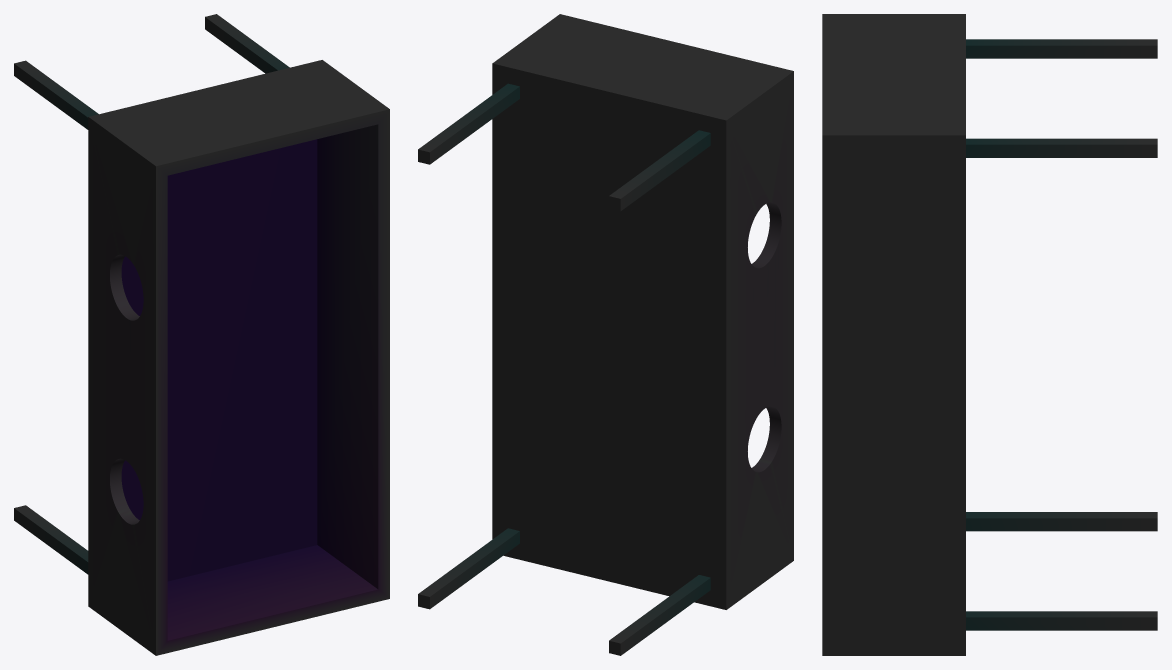
3 views of the same model, side by side, from view 1: azimuth 30°, elevation 25°; view 2: azimuth 150°, elevation 25°; view 3: azimuth 270°, elevation 25° (orthographic). The views are drawn at different scales.
Parts seen in each view (by area): view 1: shell, upper_bar, lower_bar, upper_bar.003; view 2: shell, lower_bar.003, lower_bar, upper_bar, upper_bar.003; view 3: shell, lower_bar, lower_bar.003, upper_bar, upper_bar.003.
Boxes of the visible parts, x1,y1,x2,y2 form: shell: [88, 60, 389, 655]; upper_bar: [14, 60, 98, 129]; lower_bar: [14, 505, 88, 574]; upper_bar.003: [205, 14, 289, 73]; shell: [492, 14, 793, 609]; lower_bar.003: [418, 528, 519, 609]; lower_bar: [609, 575, 710, 655]; upper_bar: [609, 130, 710, 211]; upper_bar.003: [418, 83, 519, 164]; shell: [822, 14, 965, 655]; lower_bar: [966, 512, 1157, 531]; lower_bar.003: [966, 611, 1157, 630]; upper_bar: [966, 39, 1157, 58]; upper_bar.003: [966, 138, 1157, 157].
Bounding box in the file's own units: 0.7501 × 1.5 × 0.875.
